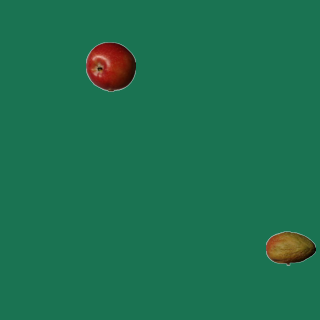Apple Braeburn: (85, 41, 135, 91)
Papaya: (265, 223, 315, 273)
